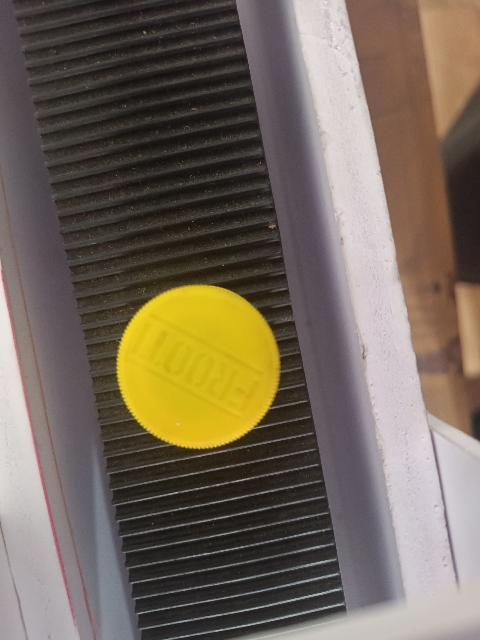bottlecap: (114, 278, 284, 454)
